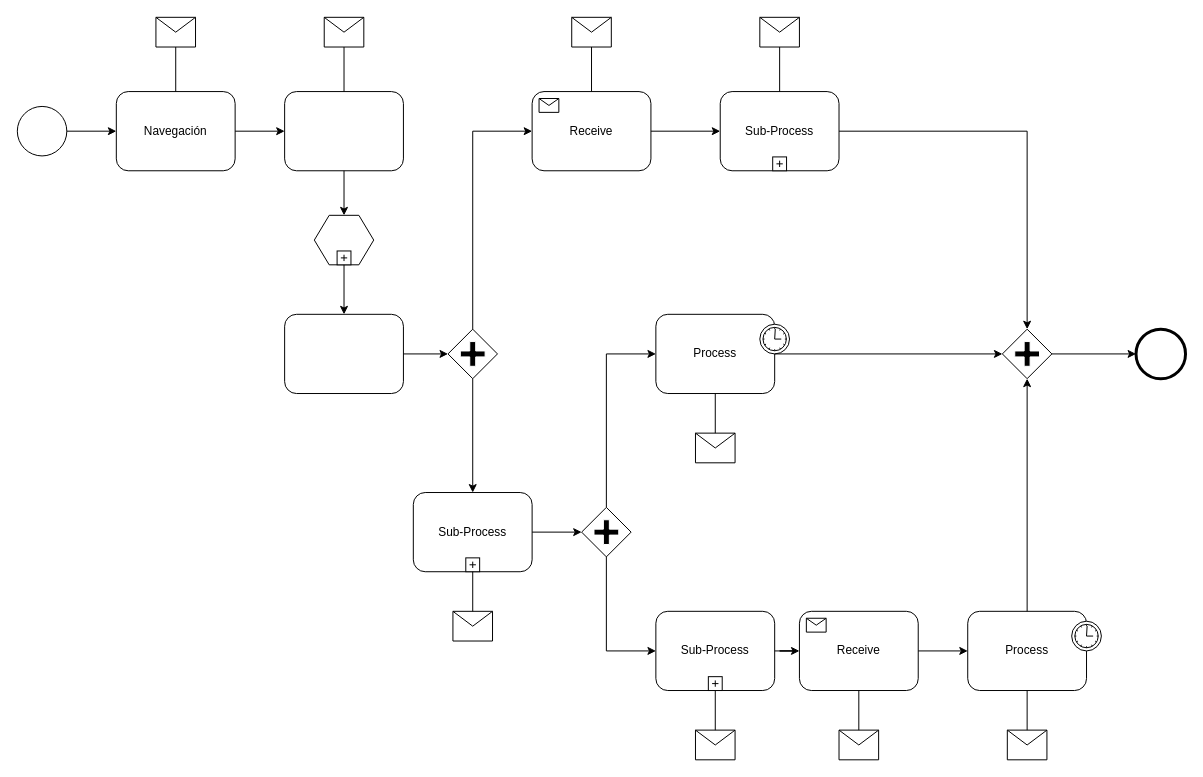
Image size: 1203x777. Some labels were removed from this diagram. The shapes that lost their labels are listed below. From the top down, each one's centre as x and y in pixels, then its label:
pixel 343 131: Acceso
pixel 343 353: Task
